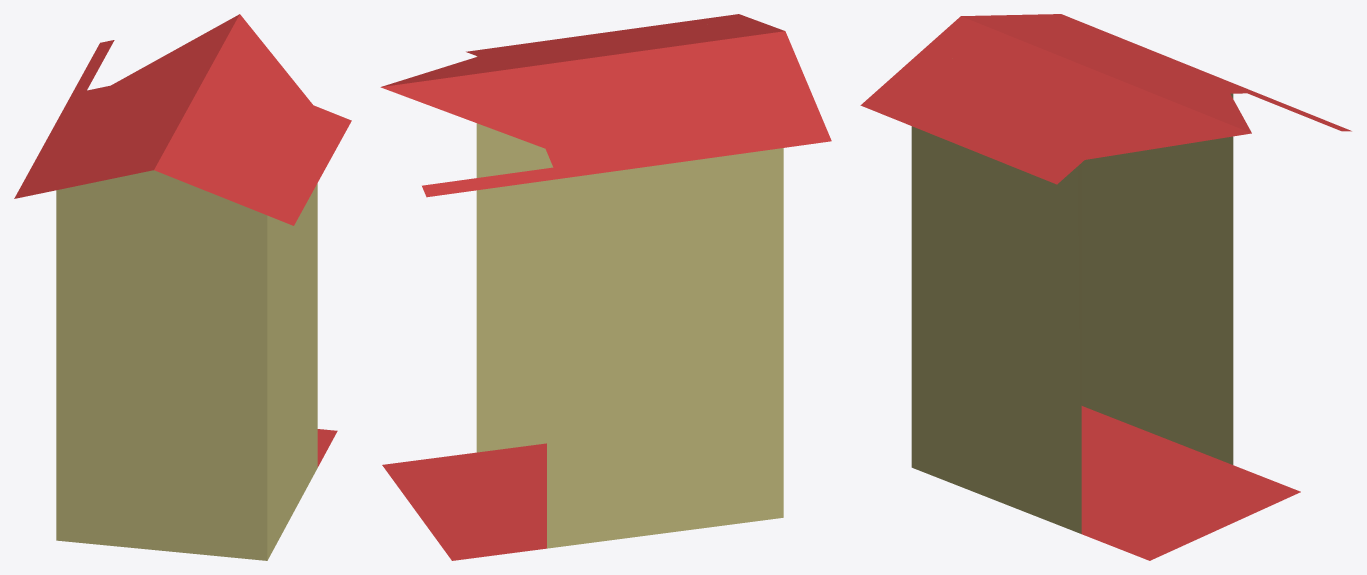
3 renders of one model, left to right at view 1: azimuth 30°, elevation 25°; view 2: azimuth 150°, elevation 25°; view 3: azimuth 270°, elevation 25°, orthographic. The views are drawn at different scales.
Size of the model in its own units: 9.02 by 10.19 by 9.29.
